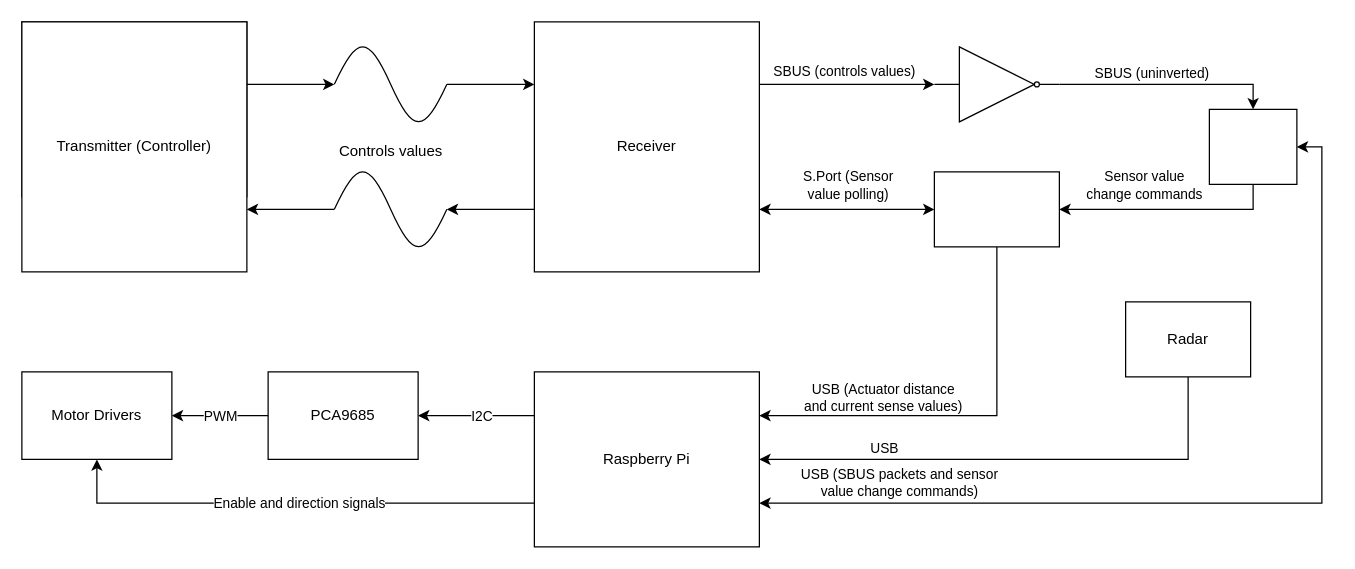
The diagram is 1355 pixels wide and 569 high, and some of its shapes have lost their labels. The shapes that lost their labels are listed below. From the top down, each one's centre as x and y in pixels, then its label:
At [996,84]: "Inverter".
At [1252,146]: "UART/TTY converter".
At [390,208]: "Sensor values".
At [996,209]: "Arduino Mega".
